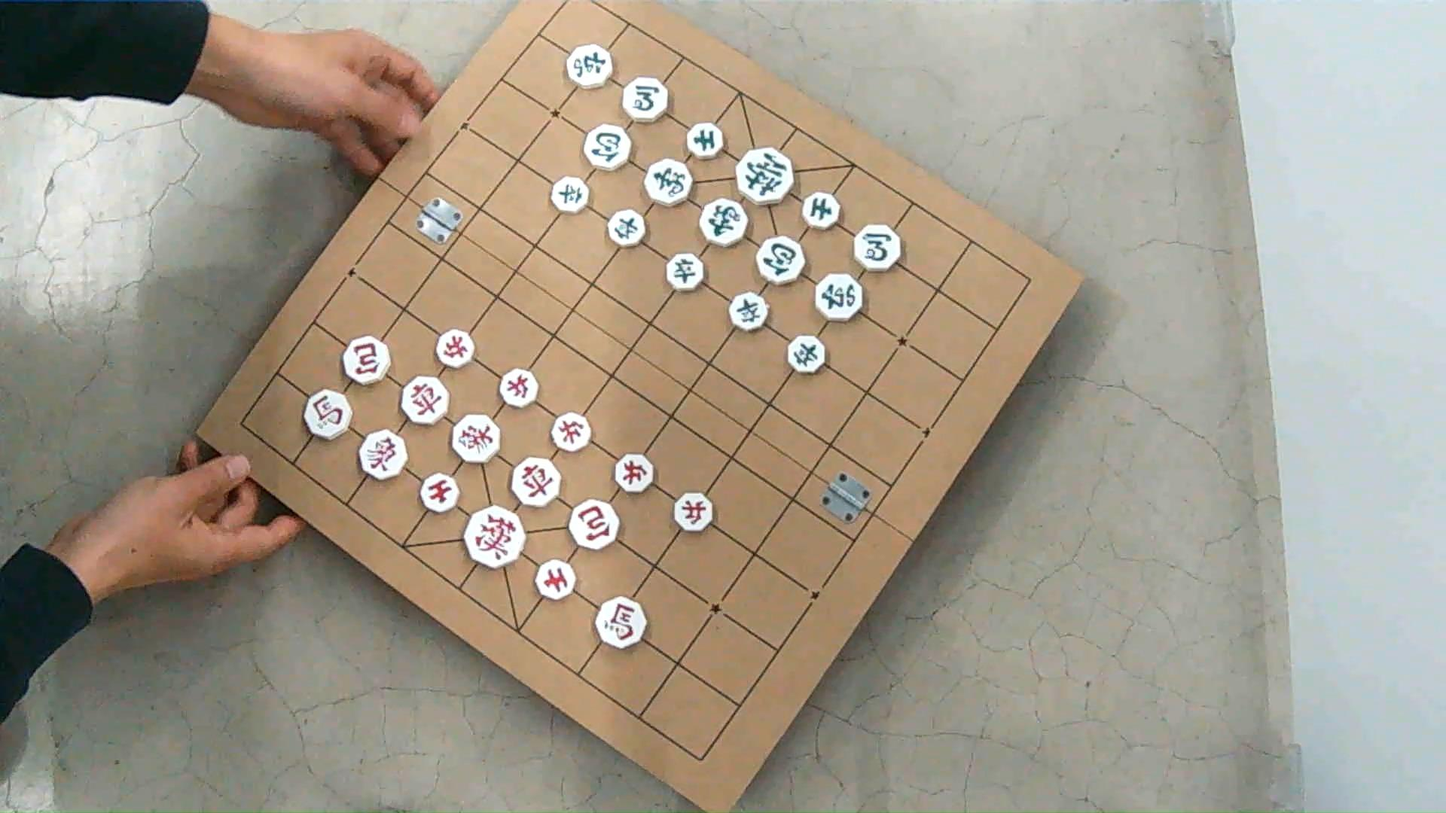cha_green: (815, 273, 864, 321), (566, 44, 612, 87)
cha_red: (511, 457, 559, 507), (401, 376, 448, 425)
jol_green: (728, 292, 767, 330), (788, 335, 826, 373), (666, 254, 704, 291), (608, 209, 645, 246), (551, 176, 587, 212)
jol_red: (612, 454, 654, 493), (551, 412, 591, 452), (499, 369, 538, 408), (673, 492, 712, 531), (435, 329, 474, 368)
ma_green: (854, 224, 901, 271), (621, 77, 668, 121)
ma_red: (596, 597, 645, 648), (304, 389, 350, 440)
po_green: (756, 236, 804, 284), (584, 124, 630, 169)
po_red: (569, 500, 619, 550), (343, 336, 389, 385)
sa_green: (802, 191, 840, 230), (686, 122, 722, 159)
sa_red: (535, 559, 575, 599), (419, 473, 458, 513)
sang_green: (700, 198, 748, 246), (645, 159, 692, 206)
sang_red: (358, 430, 407, 480), (450, 414, 499, 462)
wang_green: (736, 147, 793, 205)
wang_red: (465, 506, 524, 568)
